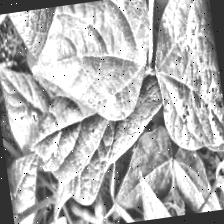ALS: (22, 0, 161, 130), (144, 0, 224, 178), (0, 55, 76, 170)
